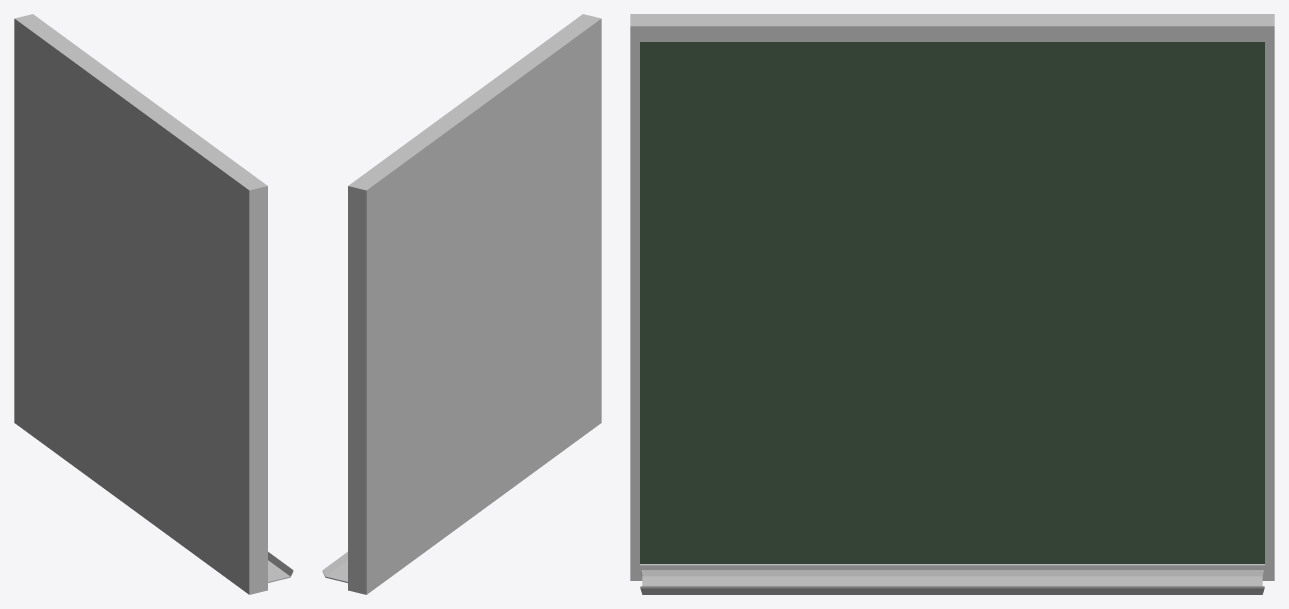
Rendered from tablica_wazka.fbx.
The picture shows the model from 3 angles, left to right: view 1: azimuth 30°, elevation 25°; view 2: azimuth 150°, elevation 25°; view 3: azimuth 270°, elevation 25°; orthographic projection. The views are drawn at different scales.
Visible parts, largest first — view 1: Tablica.001; view 2: Tablica.001; view 3: Tablica.001.
Part boxes in pixels (x1=…): Tablica.001: x1=14, y1=14, x2=293, y2=594; Tablica.001: x1=322, y1=14, x2=601, y2=594; Tablica.001: x1=630, y1=14, x2=1274, y2=594.
Bounding box in the file's own units: 32.6 × 264 × 278.
